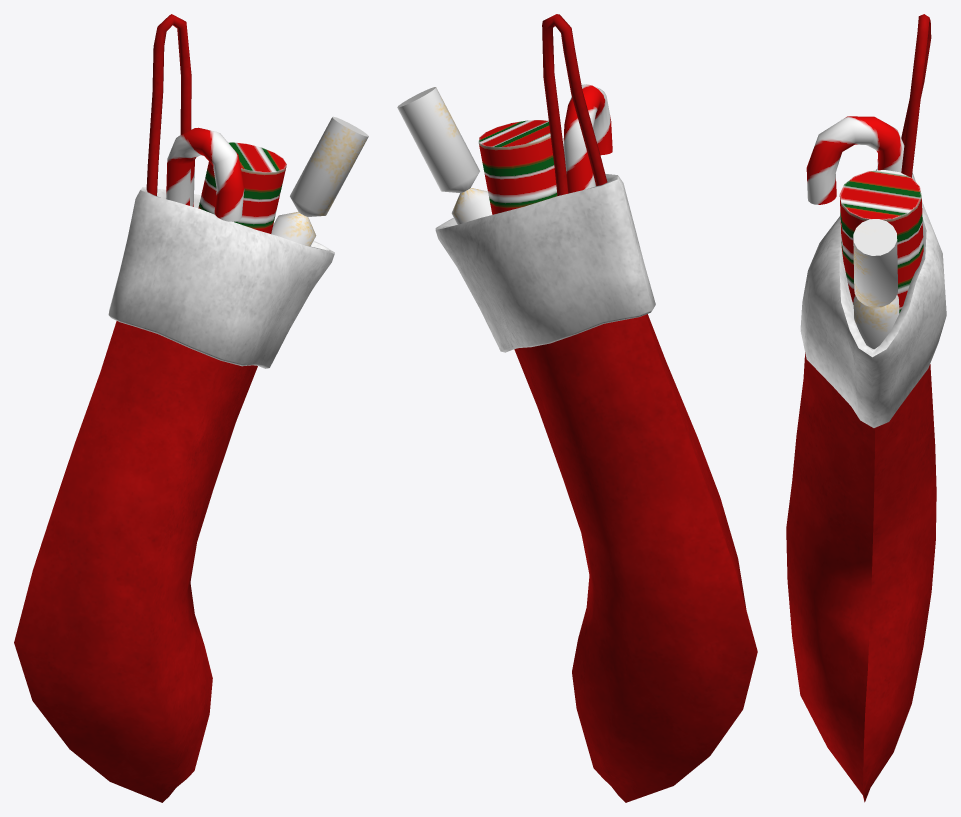
The model's file is christmas_stocking_02.fbx.
3 views of the same model, side by side, from view 1: azimuth 30°, elevation 25°; view 2: azimuth 150°, elevation 25°; view 3: azimuth 270°, elevation 25° (orthographic). The views are drawn at different scales.
Visible parts, largest first — view 1: xmas_stocking_02; view 2: xmas_stocking_02; view 3: xmas_stocking_02.
Part boxes in pixels (x1,y1,x2,y2): xmas_stocking_02: (14,14,368,802); xmas_stocking_02: (397,14,757,802); xmas_stocking_02: (786,14,946,802).
Size of the model in its own units: 60.06 by 126 by 22.73.
